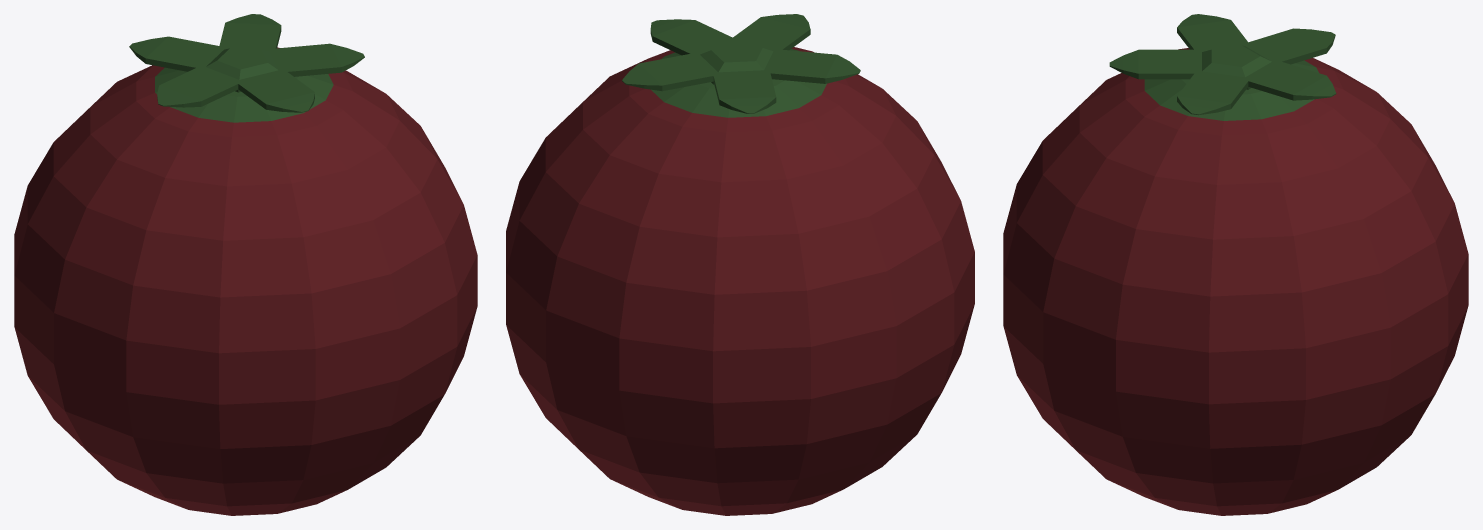
Rendered from Item_Tomato.fbx.
3 renders of one model, left to right at view 1: azimuth 30°, elevation 25°; view 2: azimuth 150°, elevation 25°; view 3: azimuth 270°, elevation 25°, orthographic.
Parts seen in each view (by area): view 1: Sphere; view 2: Sphere; view 3: Sphere.
Boxes of the visible parts, left/top/right/bottom form: Sphere: left=14, top=14, right=477, bottom=515; Sphere: left=506, top=14, right=974, bottom=515; Sphere: left=1003, top=14, right=1468, bottom=515.
Size of the model in its own units: 197 by 204 by 196.
